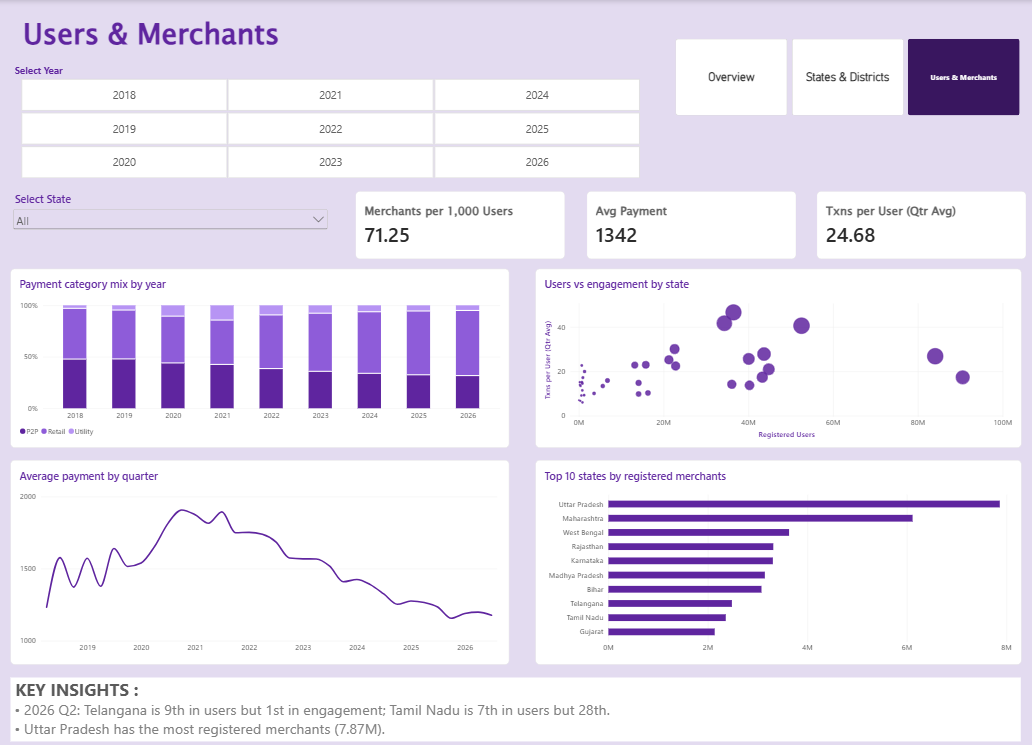

The page's visual inventory and layout, read from the dashboard file:
{"tool":"powerbi","page":{"name":"Users & Merchants","canvas":[1950,1400],"ordinal":2},"visuals":[{"type":"cardVisual","fields":{"Data":["fact_state.Txns per User (Qtr Avg)"]},"box":[1536,360,393.1,127.6],"z":0},{"type":"cardVisual","fields":{"Data":["fact_state.Avg Payment"]},"box":[1104,360,393.1,127.6],"z":1000},{"type":"cardVisual","fields":{"Data":["fact_state.Merchants per 1,000 Users"]},"box":[672,360,393.1,127.6],"z":2000},{"type":"textbox","box":[100,100,300,300],"z":3000},{"type":"scatterChart","title":"Users vs engagement by state","fields":{"Category":["dim_state.state"],"Size":["fact_state.Total Amount (Cr)"],"X":["fact_state.Registered Users"],"Y":["fact_state.Txns per User (Qtr Avg)"]},"box":[1008,504,912,336],"z":4000},{"type":"hundredPercentStackedColumnChart","title":"Payment category mix by year","fields":{"Category":["dim_period.year"],"Series":["fact_category.category"],"Y":["fact_category.Category Transactions"]},"box":[24,504,936,336],"z":5000},{"type":"lineChart","title":"Average payment by quarter","fields":{"Category":["dim_period.quarter_end"],"Y":["fact_state.Avg Payment"]},"box":[24,864,936,384],"z":6000},{"type":"barChart","title":"Top 10 states by registered merchants","fields":{"Category":["dim_state.state"],"Y":["fact_state.Registered Merchants"]},"box":[1008,864,912,384],"z":7000},{"type":"textbox","box":[48,24,576,96],"z":8000},{"type":"pageNavigator","title":"PAGE NAVIGATION","box":[1272,72,648,144],"z":9000},{"type":"slicer","fields":{"Values":["dim_period.year"]},"box":[24,120,1200,216],"z":10000},{"type":"slicer","fields":{"Values":["dim_state.state"]},"box":[24,360,600,120],"z":11000},{"type":"textbox","box":[24,1272,1896,120],"z":12000}]}

Visuals, with their boxes in screenshot pixels (x1, y1, x2, y2), scaled from the page's 1950x1400 canvas onto the 1032x745 screenshot:
cardVisual - fact_state.Txns per User (Qtr Avg): (813,192,1021,259)
cardVisual - fact_state.Avg Payment: (584,192,792,259)
cardVisual - fact_state.Merchants per 1,000 Users: (356,192,564,259)
textbox: (53,53,212,213)
"Users vs engagement by state" scatterChart: (533,268,1016,447)
"Payment category mix by year" hundredPercentStackedColumnChart: (13,268,508,447)
"Average payment by quarter" lineChart: (13,460,508,664)
"Top 10 states by registered merchants" barChart: (533,460,1016,664)
textbox: (25,13,330,64)
"PAGE NAVIGATION" pageNavigator: (673,38,1016,115)
slicer - dim_period.year: (13,64,648,179)
slicer - dim_state.state: (13,192,330,255)
textbox: (13,677,1016,741)
